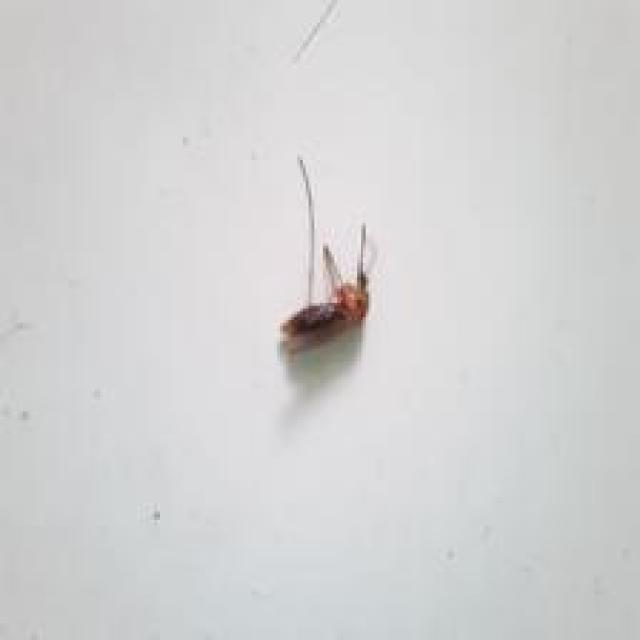Culex: (278, 154, 373, 352)
